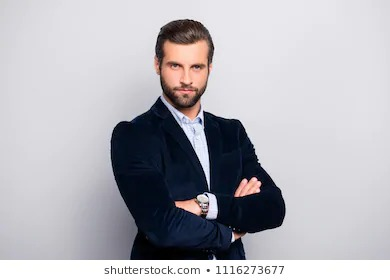F_M_suit jacket: (108, 94, 288, 259)
